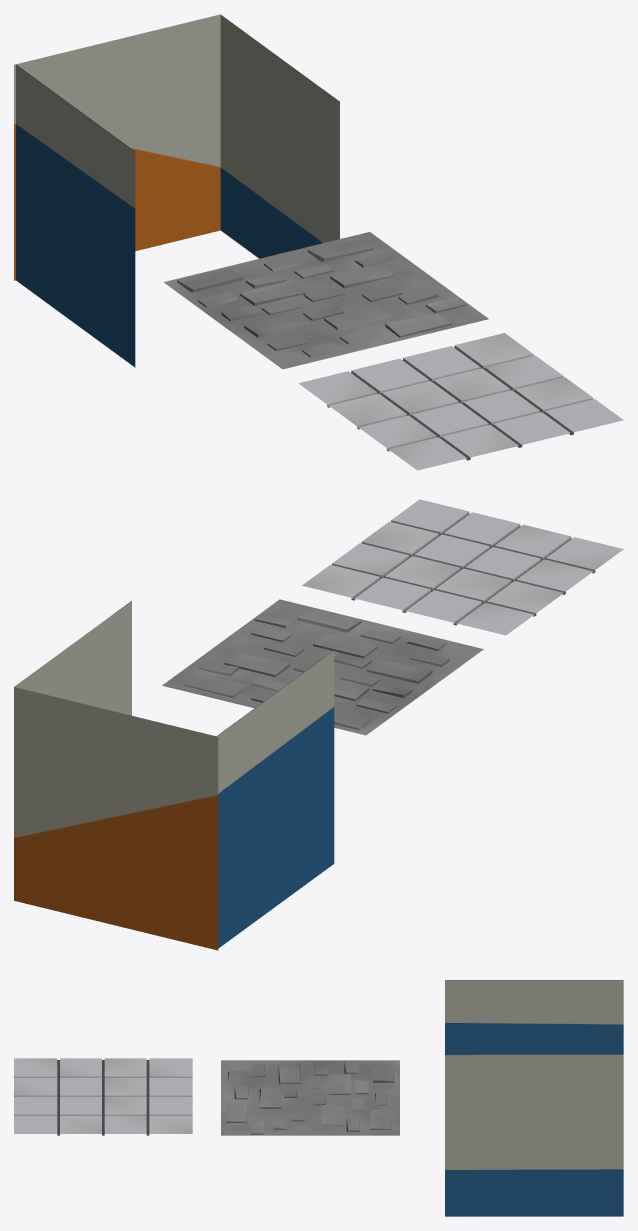
File: AndreParreiras_853209.fbx_Revestimento.fbx
The picture shows the model from 3 angles, top to bottom: view 1: azimuth 30°, elevation 25°; view 2: azimuth 150°, elevation 25°; view 3: azimuth 270°, elevation 25°; orthographic projection. The views are drawn at different scales.
Parts seen in each view (by area): view 1: ParedeDiagonal, ParedeAlta, Piso, Chao, ParedeBaixa; view 2: ParedeDiagonal, ParedeAlta, Piso, Chao, ParedeBaixa; view 3: ParedeBaixa, Piso, Chao, ParedeAlta.
Part boxes in pixels (x1,y1,x2,y2): ParedeDiagonal: (14, 14, 220, 280); ParedeAlta: (16, 64, 135, 367); Piso: (298, 333, 623, 470); Chao: (163, 232, 488, 369); ParedeBaixa: (220, 15, 339, 258); ParedeDiagonal: (14, 687, 218, 950); ParedeAlta: (217, 650, 334, 948); Piso: (302, 499, 623, 635); Chao: (162, 599, 483, 735); ParedeBaixa: (14, 601, 131, 715); ParedeBaixa: (445, 1054, 623, 1216); Piso: (14, 1058, 192, 1135); Chao: (221, 1060, 399, 1135); ParedeAlta: (445, 980, 623, 1054).
Size of the model in its own units: 203 by 200 by 682.
